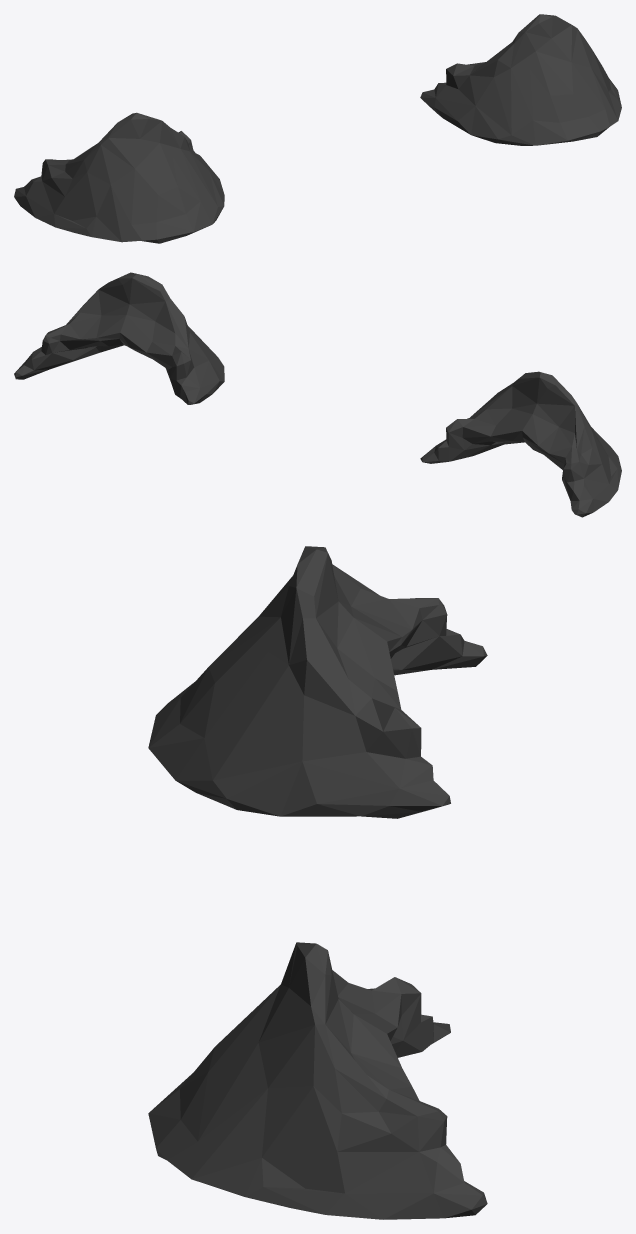
File: skel_FL_phalanx_distal.glb
3 views of the same model, one above another, from view 1: azimuth 30°, elevation 25°; view 2: azimuth 150°, elevation 25°; view 3: azimuth 270°, elevation 25° (orthographic). The views are drawn at different scales.
Visible parts, largest first — view 1: skel_FL_phalanx_distal; view 2: skel_FL_phalanx_distal; view 3: skel_FL_phalanx_distal.
Boxes of the visible parts, x1,y1,x2,y2 form: skel_FL_phalanx_distal: (14,14,621,243); skel_FL_phalanx_distal: (14,272,621,517); skel_FL_phalanx_distal: (148,546,487,1219).
Size of the model in its own units: 0.00476 by 0.000788 by 0.00122.
Materials: 1 (1 with a texture image).
